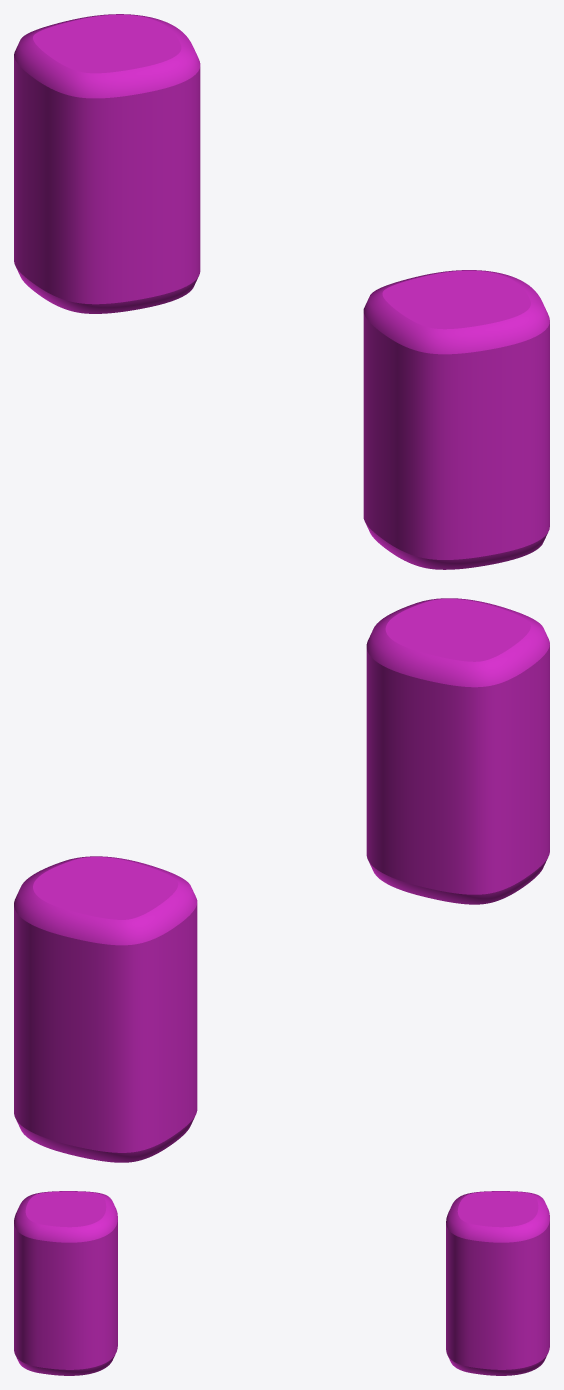
Rendered from Blocky_Colon.fbx.
3 renders of one model, top to bottom at view 1: azimuth 30°, elevation 25°; view 2: azimuth 150°, elevation 25°; view 3: azimuth 270°, elevation 25°, orthographic. The views are drawn at different scales.
Parts seen in each view (by area): view 1: BlockyColon; view 2: BlockyColon; view 3: BlockyColon.
Part boxes in pixels (bbox=[...]): BlockyColon: bbox=[14, 14, 549, 569]; BlockyColon: bbox=[14, 598, 549, 1162]; BlockyColon: bbox=[14, 1191, 549, 1375].
Size of the model in its own units: 0.0924 by 0.14 by 0.4584.
